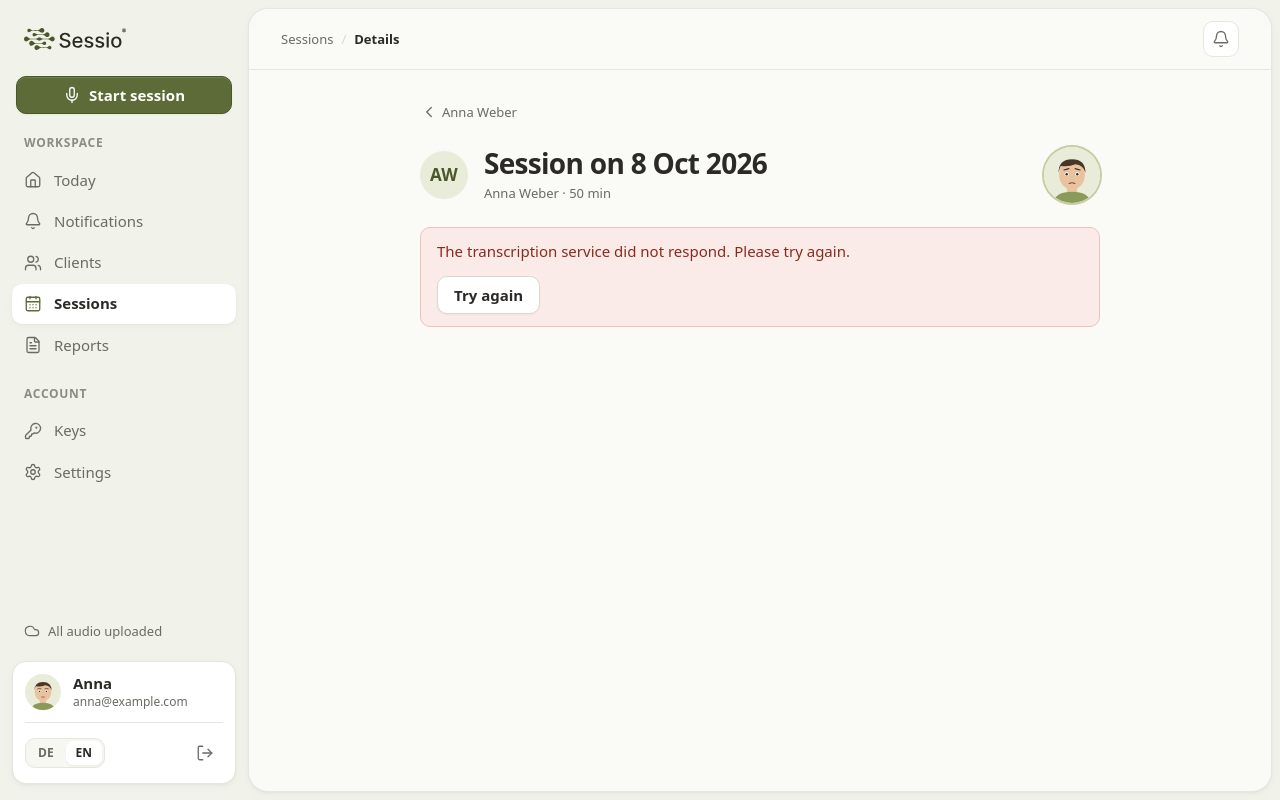
session page › shows a failure with retry
Check: the text "The transcription service did not respond. Please try again." is shown, box [437,241,850,261]
Click the button "Try again".
click(489, 294)  # box [437,276,540,314]
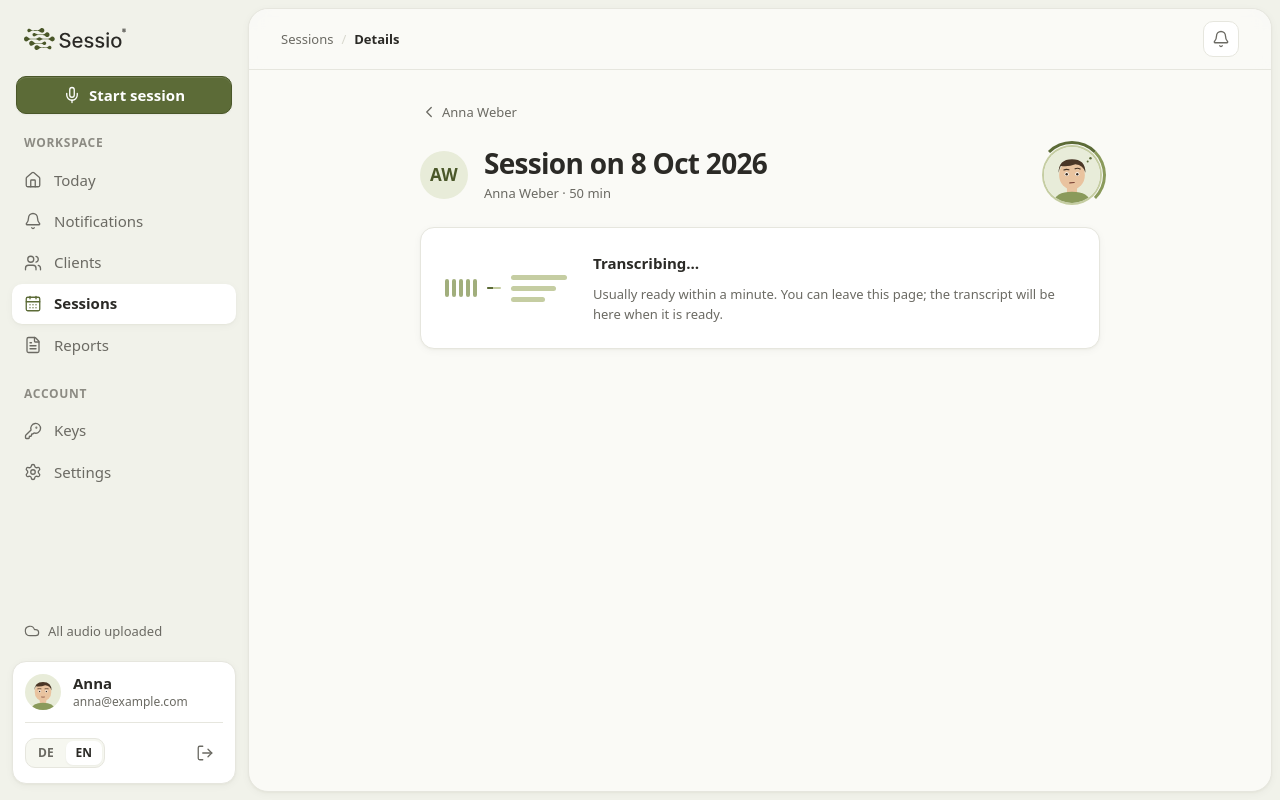
Check: the message shows "Transcribing…", box [593,253,699,273]
